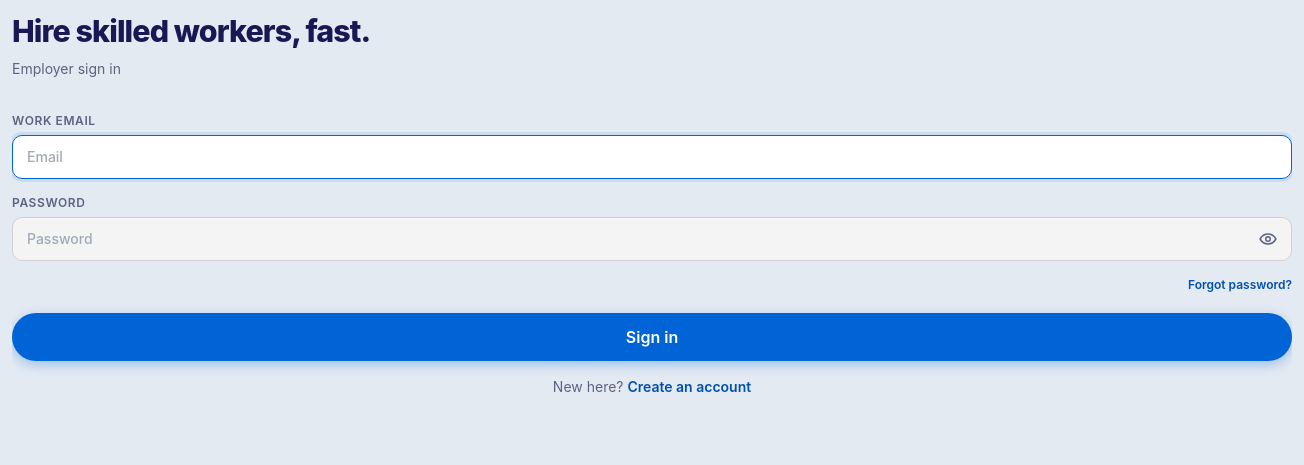
Test case: EmployerAuthForm — a reset that cannot be sent › still sends a signed-in confirm that finds the account confirmed to login with the usual sentence
The image size is (1304, 465).
Type "employer@example.com" into the field with placeholder "Email".
click(652, 157); type("employer@example.com")  # box top-left (12, 135), bottom-right (1292, 179)
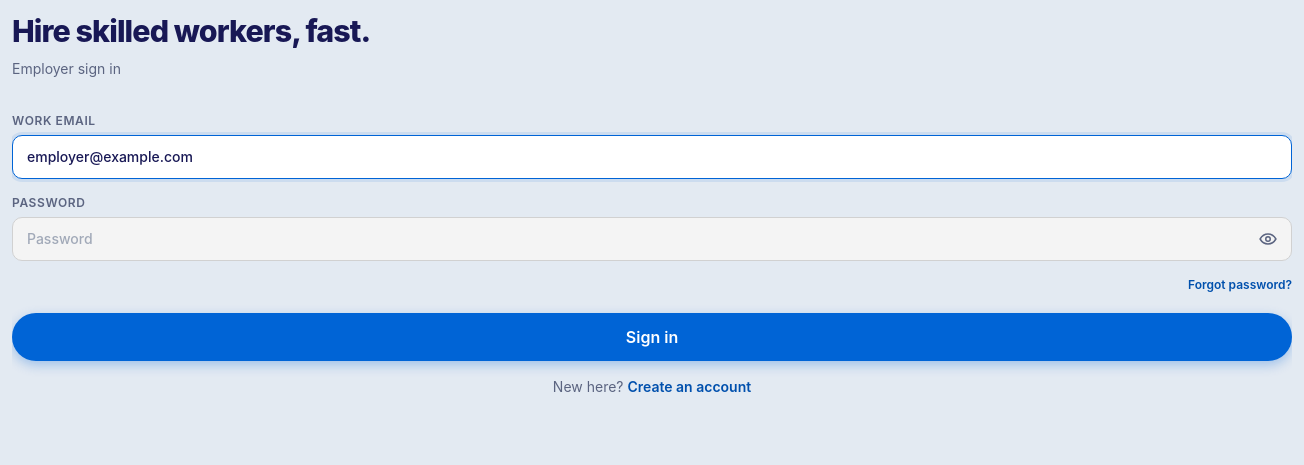
Type "WrongPass1!" into the password field with placeholder "Password".
click(652, 239); type("WrongPass1!")  # box top-left (12, 217), bottom-right (1292, 261)
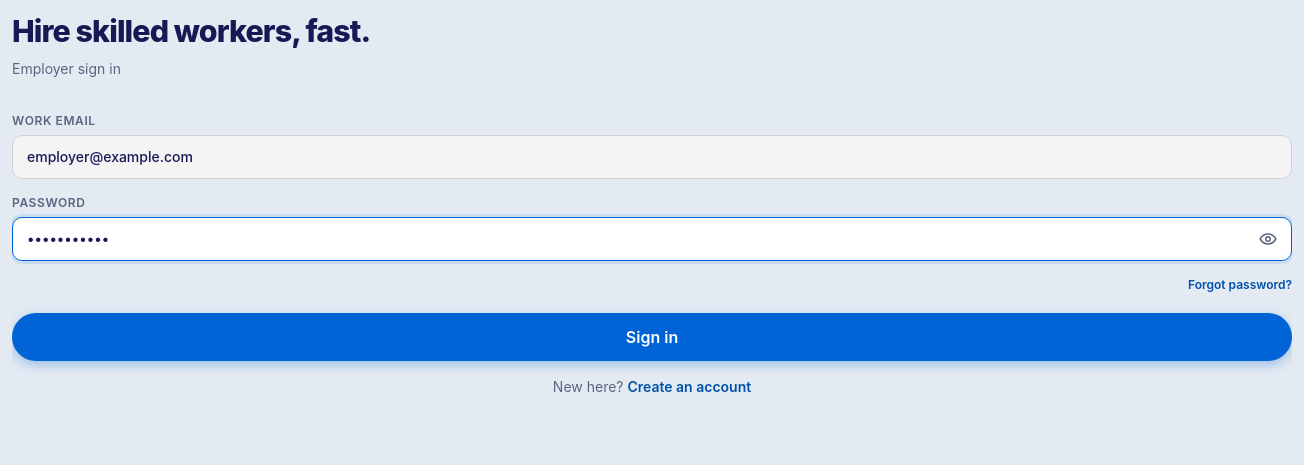
Click the button "Sign in".
click(652, 337)  # box top-left (12, 313), bottom-right (1292, 361)
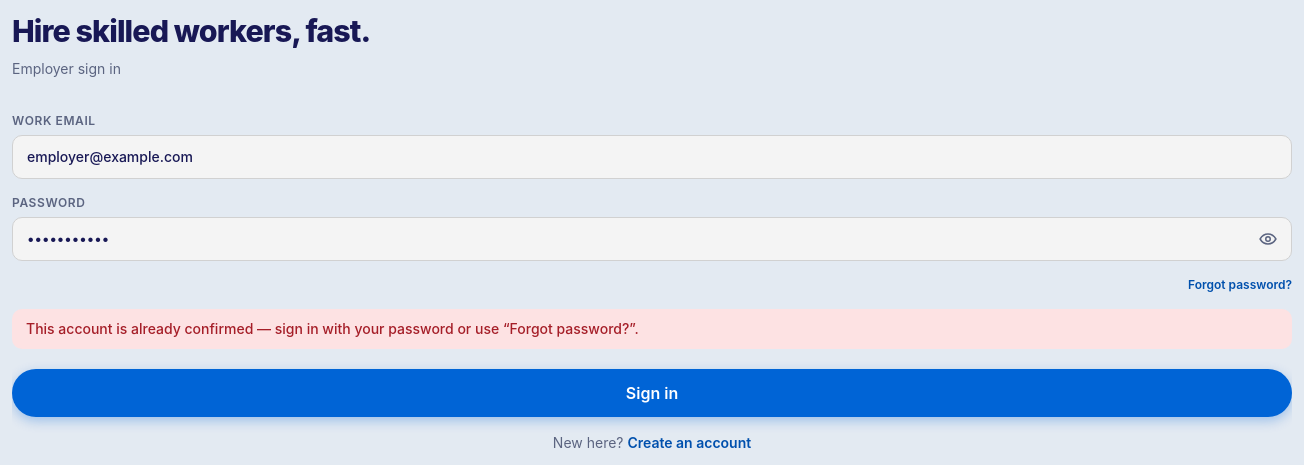
expect the text "This account is already confirmed — sign in with your password or use “Forgot password?”." is shown: met, box top-left (26, 320), bottom-right (639, 337)
